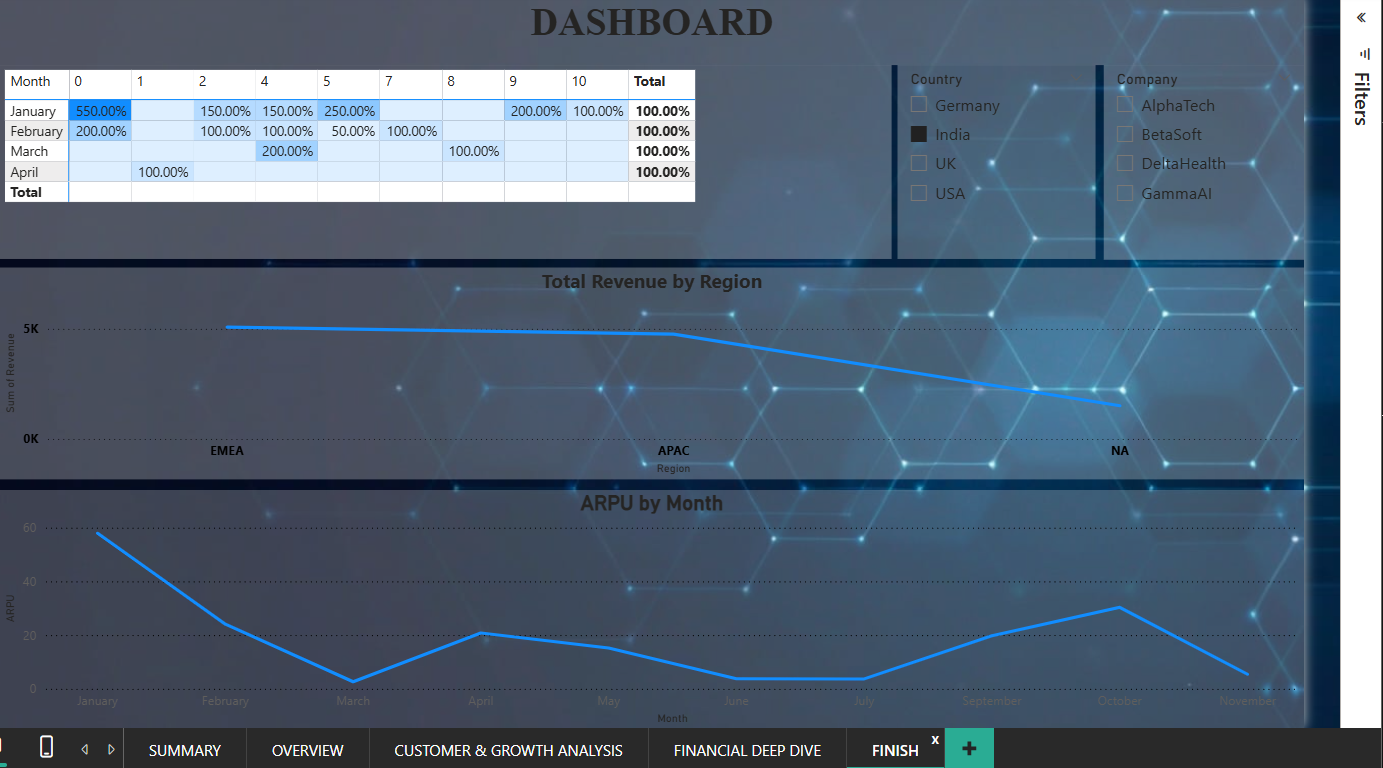

This screenshot's page, from the dashboard's own definition file:
{"tool":"powerbi","page":{"name":"FINISH","canvas":[1280,720],"ordinal":4},"visuals":[{"type":"pivotTable","fields":{"Rows":["Data.CohortMonth.Variation.Date Hierarchy.Month"],"Columns":["Data.MonthsSinceCohort"],"Values":["Data.RetentionRate"]},"box":[0,69.2,875.4,190],"z":0},{"type":"lineChart","title":"Total Revenue by Region","fields":{"Y":["Sum(Data.Revenue)"],"Category":["Data.Region"]},"box":[0,267.1,1280,208.3],"z":1000},{"type":"slicer","fields":{"Values":["Data.Country"]},"box":[881.5,69.2,194.6,190],"z":2000},{"type":"slicer","fields":{"Values":["Data.Company"]},"box":[1083.5,68.9,196.5,191.5],"z":3000},{"type":"lineChart","fields":{"Category":["Data.Date.Variation.Date Hierarchy.Month"],"Y":["Sum(Data.ARPU)"]},"box":[0,485.5,1280,235.2],"z":4000},{"type":"textbox","box":[0,0,1280,68.6],"z":5000}]}

Visuals, with their boxes on the page's 1280x720 design canvas (x1, y1, x2, y2). These are canvas units, not pixel positions in the 1383x768 screenshot, which may show the page scaled, cropped or inside an application window:
pivotTable - Data.CohortMonth.Variation.Date Hierarchy.Month x Data.MonthsSinceCohort: bbox(0, 69, 875, 259)
"Total Revenue by Region" lineChart: bbox(0, 267, 1280, 475)
slicer - Data.Country: bbox(882, 69, 1076, 259)
slicer - Data.Company: bbox(1084, 69, 1280, 260)
lineChart - Data.Date.Variation.Date Hierarchy.Month x Sum(Data.ARPU): bbox(0, 486, 1280, 721)
textbox: bbox(0, 0, 1280, 69)
